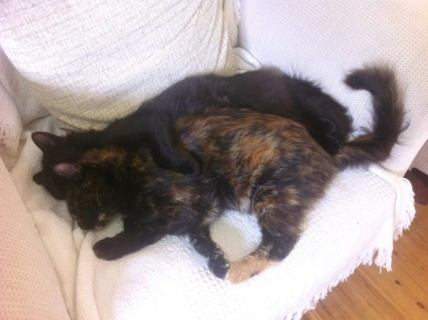Cat: (53, 58, 410, 283), (32, 65, 355, 199)
